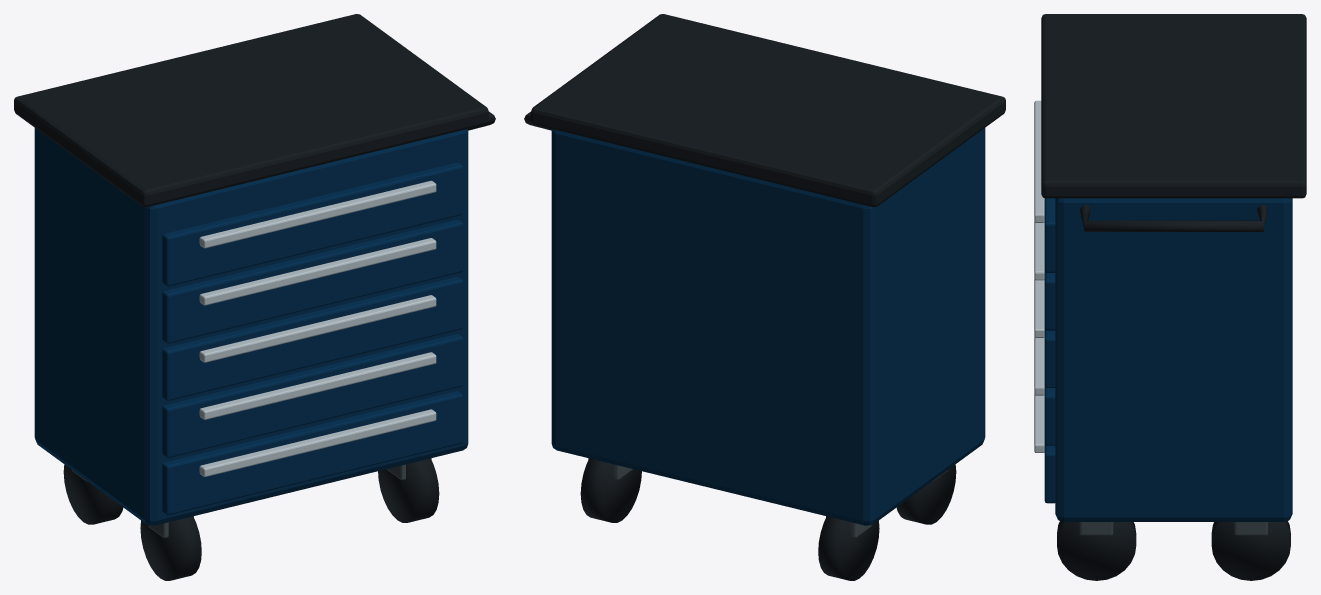
File: PROP_ToolCart.mobile.glb
3 renders of one model, left to right at view 1: azimuth 30°, elevation 25°; view 2: azimuth 150°, elevation 25°; view 3: azimuth 270°, elevation 25°, orthographic.
Visible parts, largest first — view 1: PROP_ToolCart; view 2: PROP_ToolCart; view 3: PROP_ToolCart.
Boxes of the visible parts, x1,y1,x2,y2 form: PROP_ToolCart: [14, 14, 495, 580]; PROP_ToolCart: [524, 14, 1005, 580]; PROP_ToolCart: [1034, 14, 1306, 580].
Size of the model in its own units: 0.7857 by 0.8385 by 0.4925.
1 material, 1 textured.
